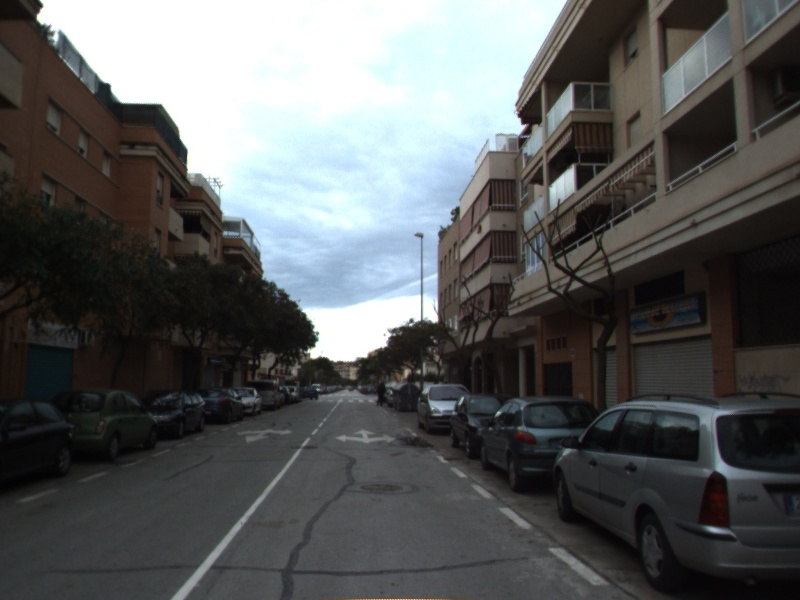STRAIGHT_LEFT_RIGHT: (333, 427, 398, 445)
